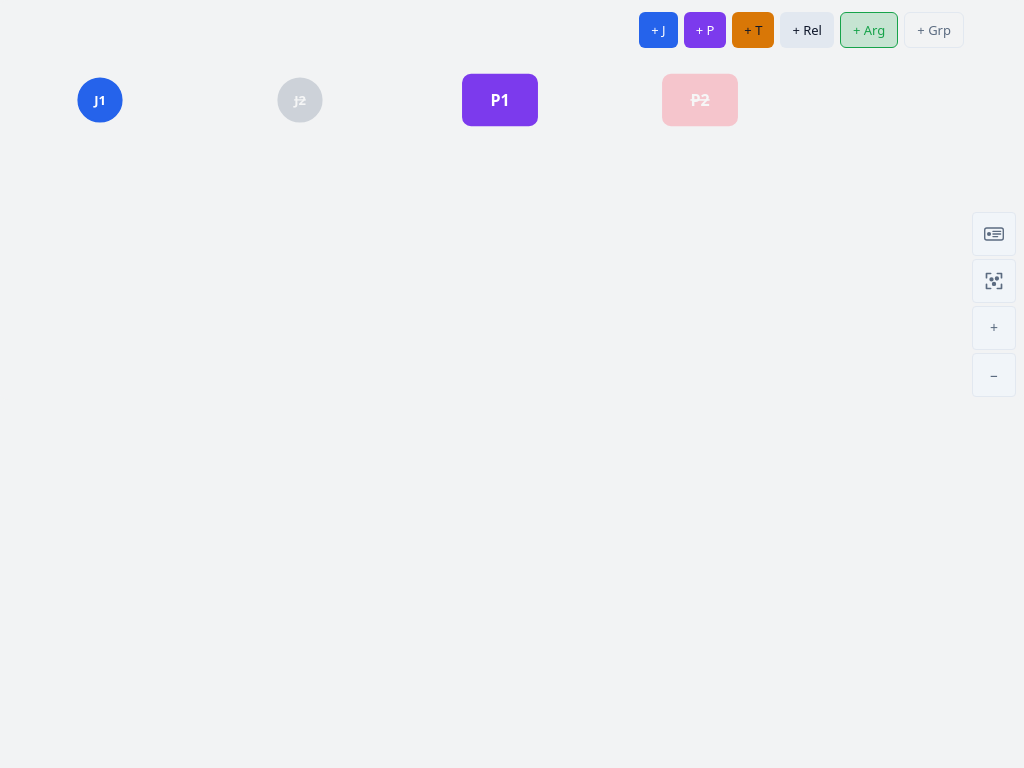
Test: half-written forms › keeps what was typed when the dialog is dismissed and reopened
Click the button "+ J": (658,30) [639,12,678,48]
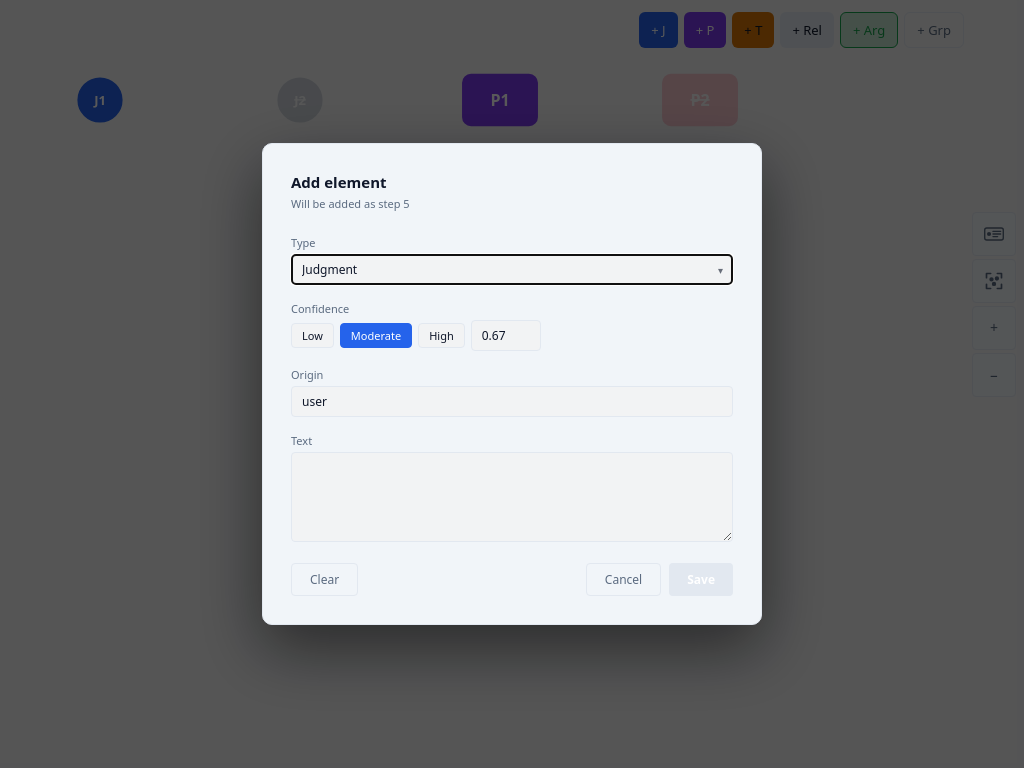
In the text box: (512,497) [291,452,733,542], type "Torturing is wrong."
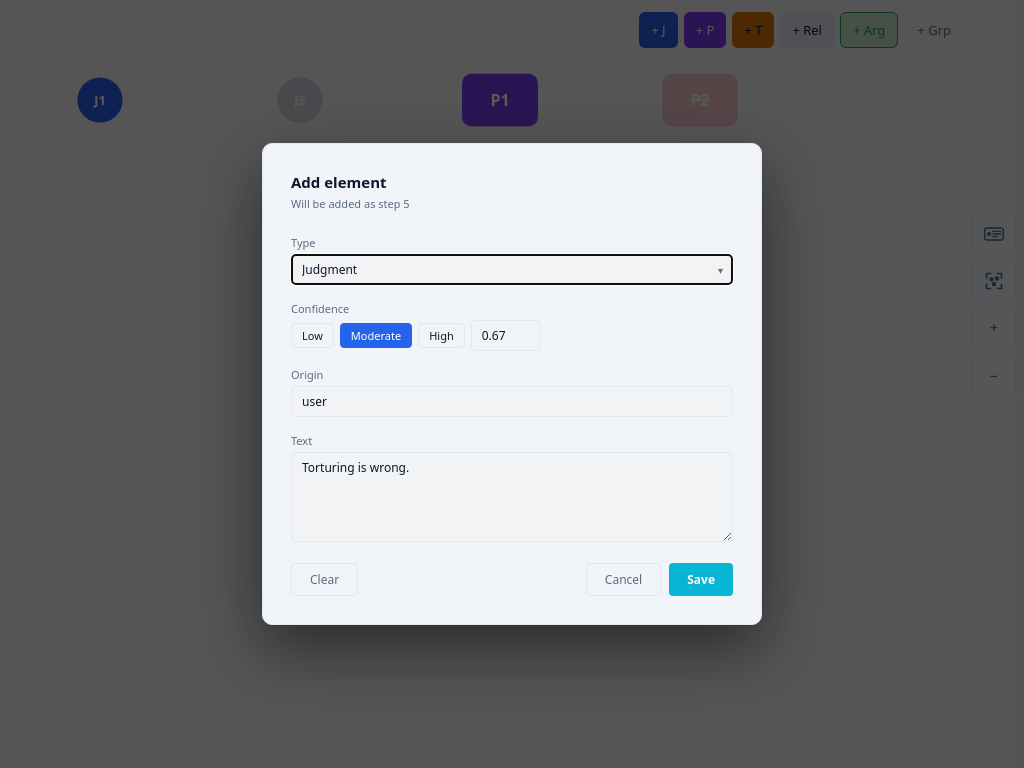
Click the button "Cancel": (624,580) [586,563,661,596]
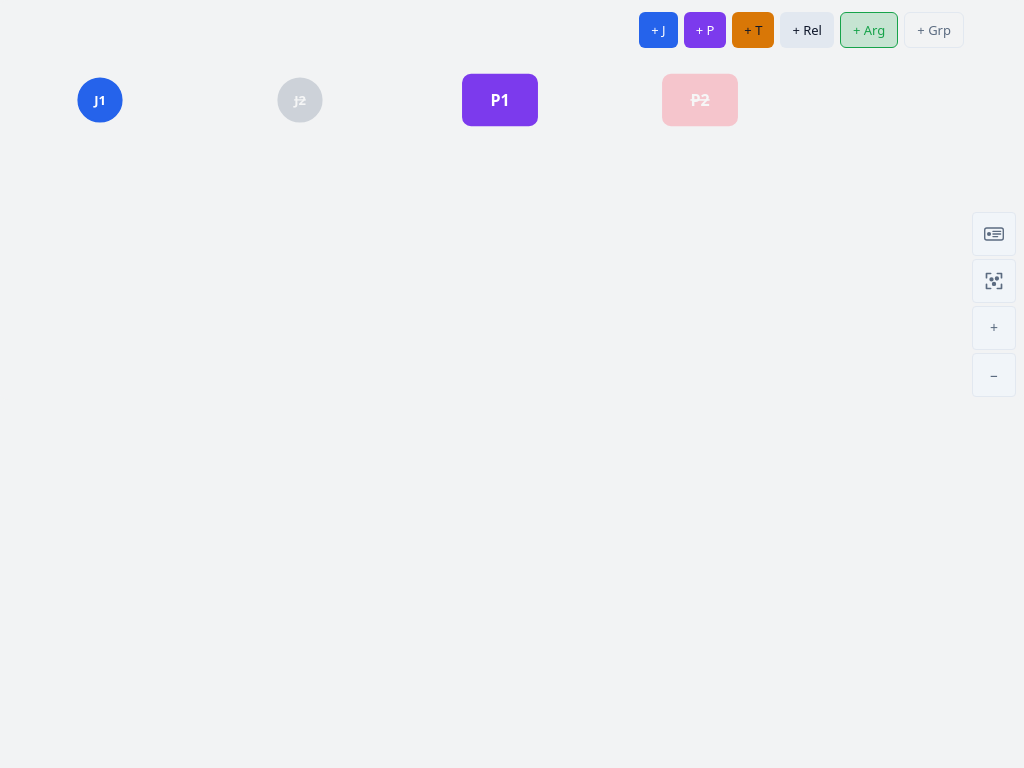
Result: the text box is gone
Click the button "+ J": (658,30) [639,12,678,48]
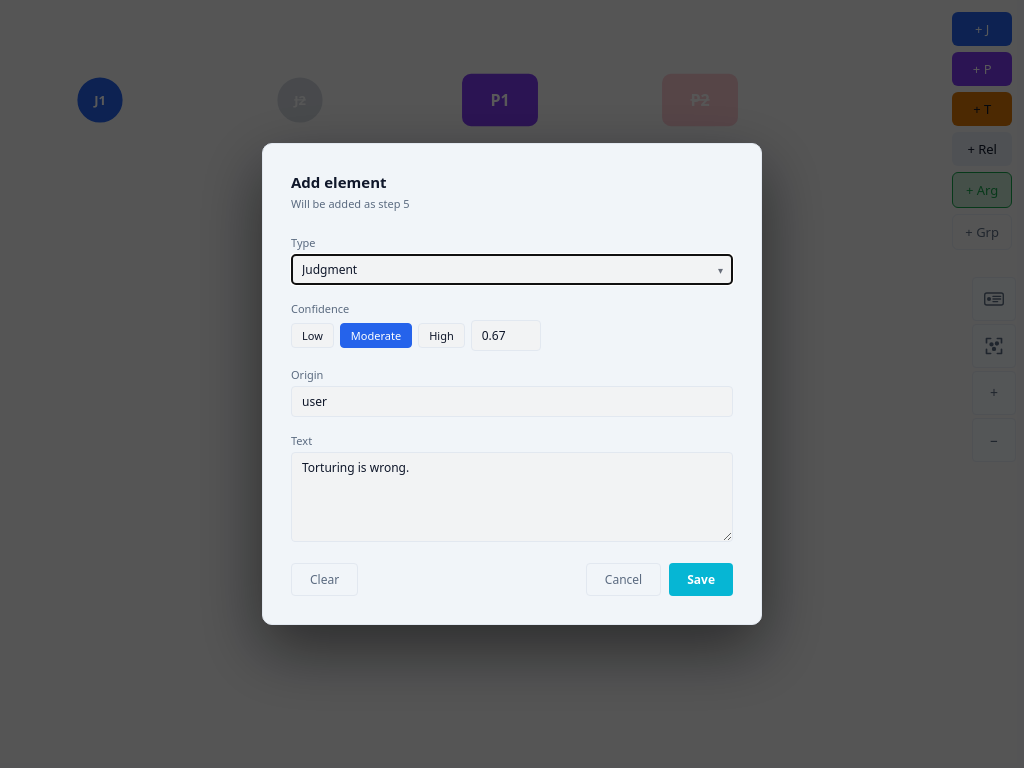
Result: the text box holds "Torturing is wrong." at [291,452,733,542]
